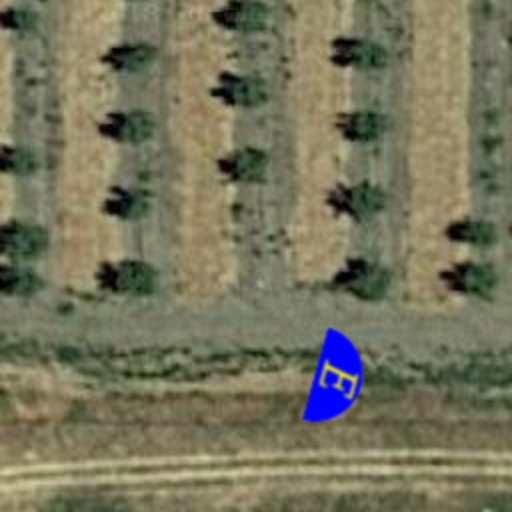semicircle: (278, 320, 398, 440)
